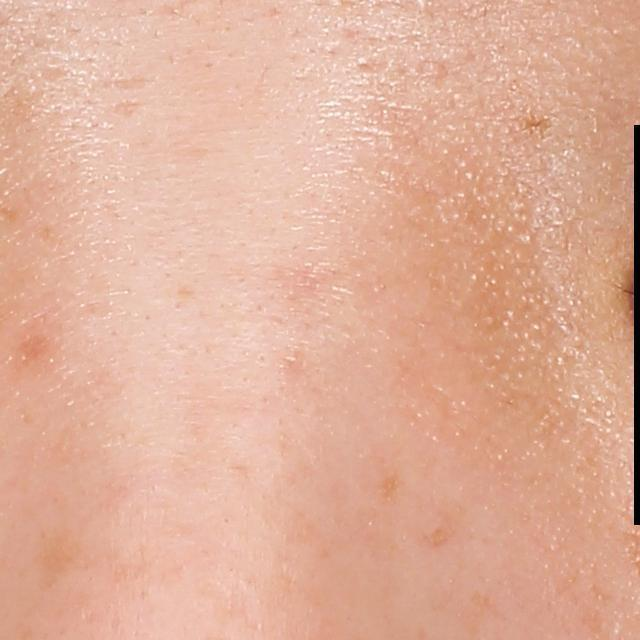melasma: (375, 462, 401, 506)
